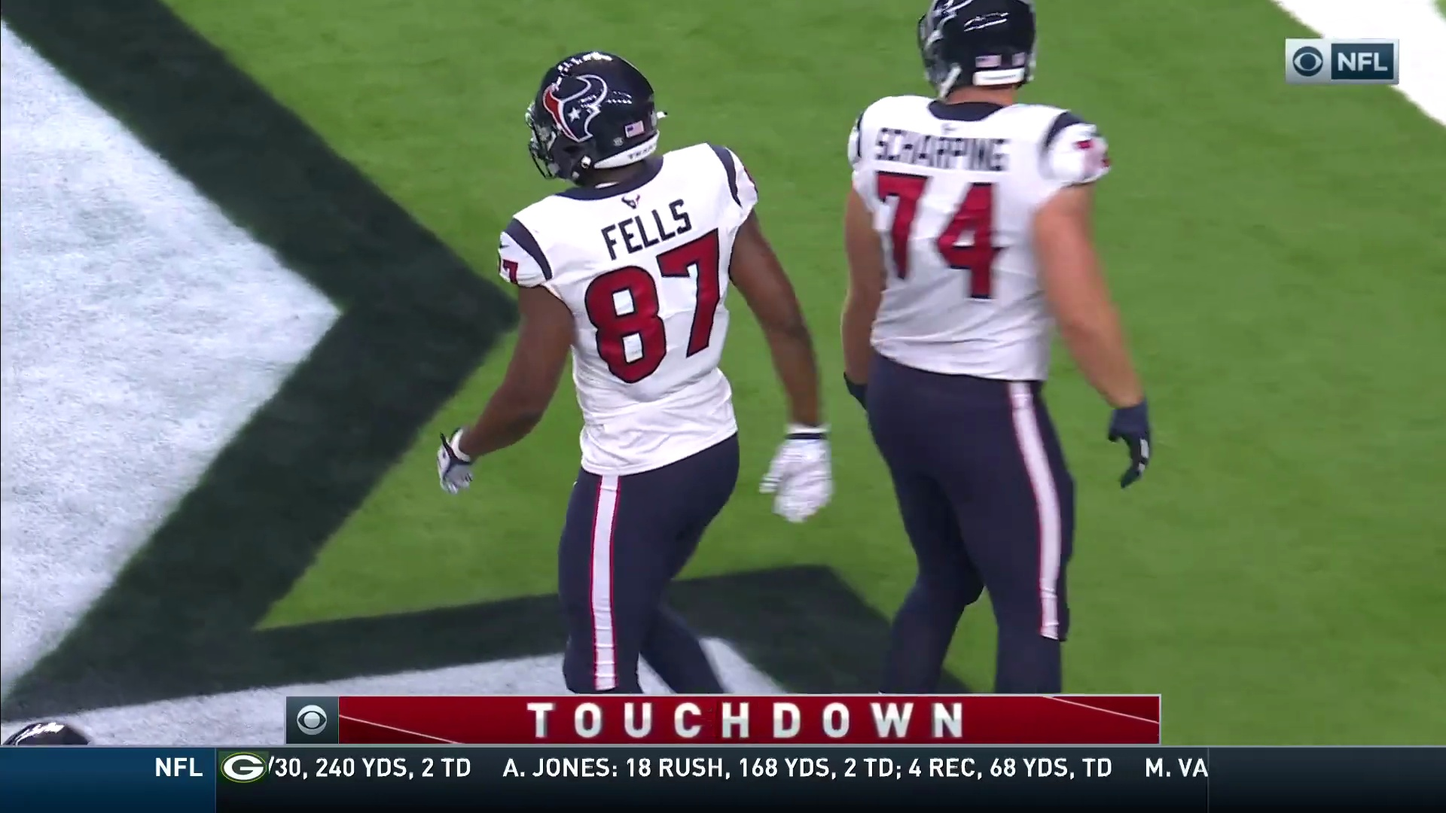Player: (497, 67, 787, 536), (834, 55, 1132, 480)
